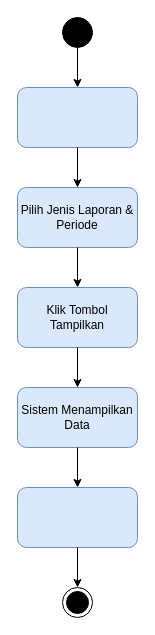
This 155x635 diagram has some shape labels left out. Here are the shapes that lost their labels. From the top down, the box of each, then its label:
(16, 86, 138, 148): Pilih Menu Laporan
(16, 486, 138, 548): Klik Tombol Cetak (PDF)
